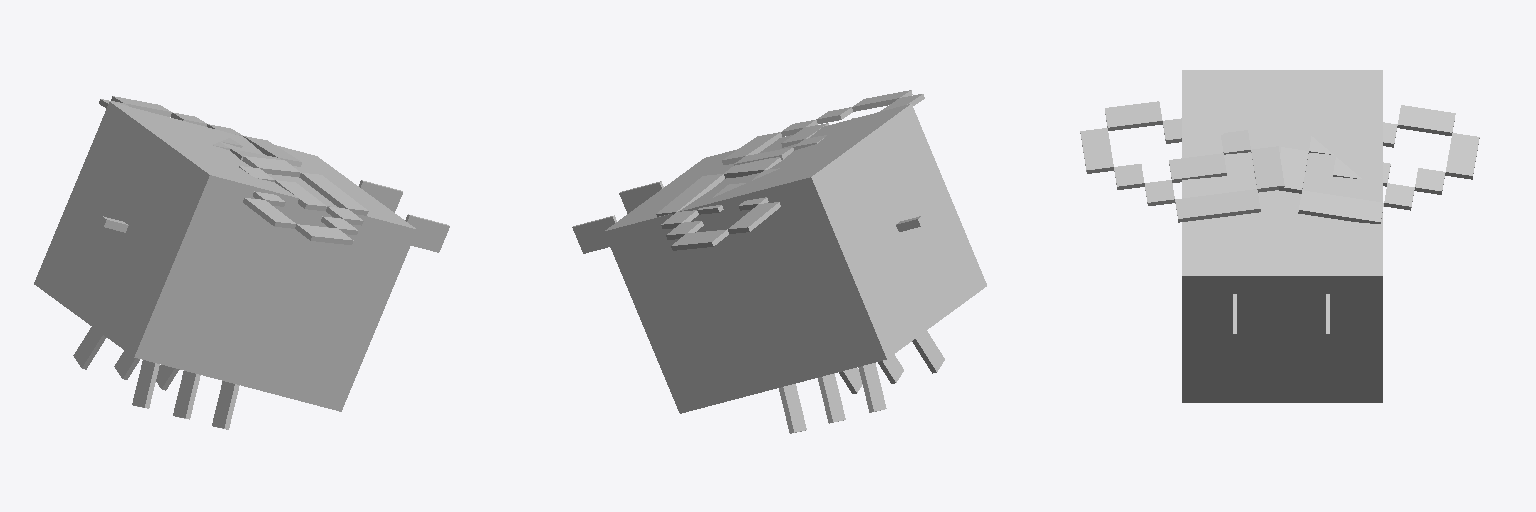
Rendered from Bee_ (18).obj.
3 views of the same model, side by side, from view 1: azimuth 30°, elevation 25°; view 2: azimuth 150°, elevation 25°; view 3: azimuth 270°, elevation 25° (orthographic).
Parts seen in each view (by area): view 1: b_Bee_MAT_0, l_Bee_MAT_0, r_Bee_MAT_0; view 2: b_Bee_MAT_0, r_Bee_MAT_0, l_Bee_MAT_0; view 3: b_Bee_MAT_0, l_Bee_MAT_0, r_Bee_MAT_0.
Boxes of the visible parts, <box> form: b_Bee_MAT_0: <box>34,102,449,429</box>; l_Bee_MAT_0: <box>239,156,368,244</box>; r_Bee_MAT_0: <box>99,96,301,166</box>; b_Bee_MAT_0: <box>572,104,986,433</box>; r_Bee_MAT_0: <box>656,157,781,250</box>; l_Bee_MAT_0: <box>722,90,924,165</box>; b_Bee_MAT_0: <box>1182,70,1382,402</box>; l_Bee_MAT_0: <box>1080,101,1284,222</box>; r_Bee_MAT_0: <box>1279,105,1479,223</box>.
Bounding box in the file's own units: 0.308 × 0.2412 × 0.3121.